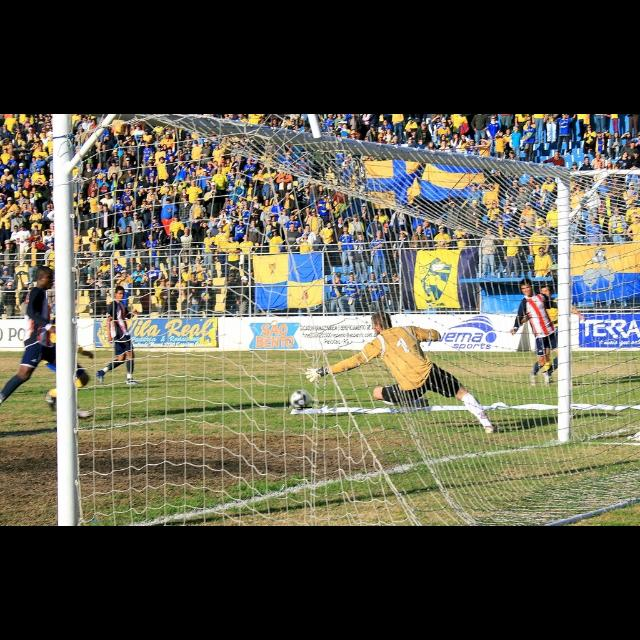Football: (288, 386, 312, 408)
